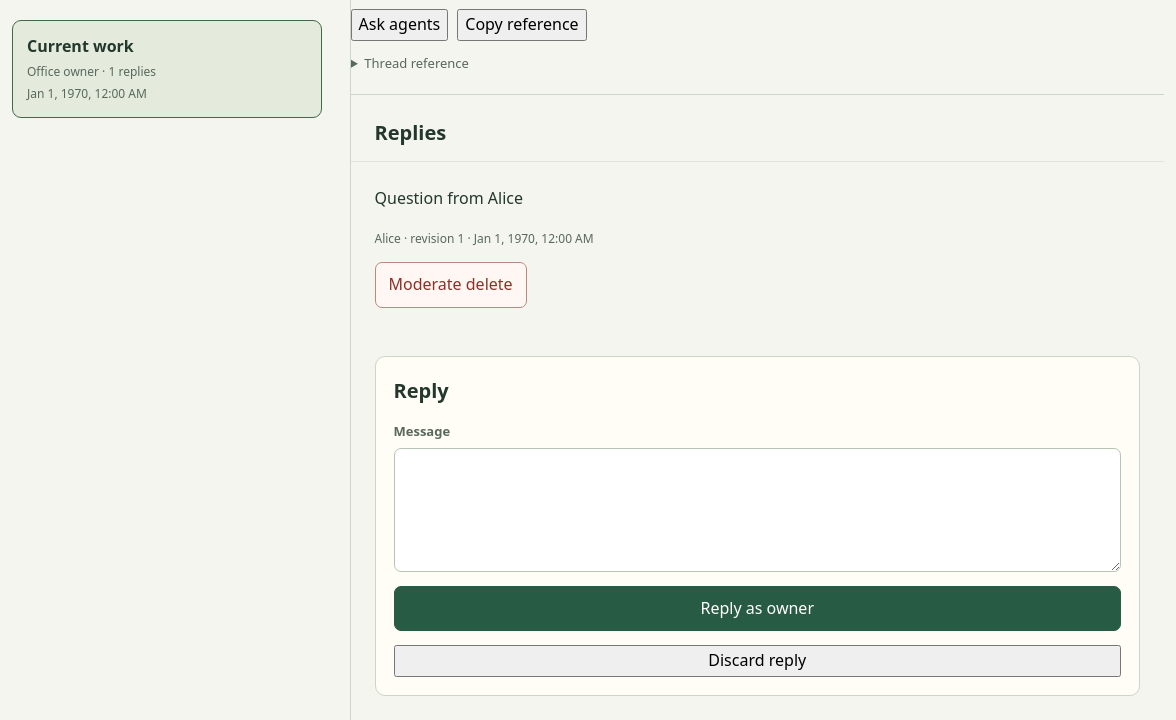
Test: local Office board › keeps an uncertain reply retry reachable when a refresh observes a deleted thread
(page scrolled)
Type "Sent before deletion" into the text box labelled "Message" at (757, 510), box [394, 448, 1121, 572]
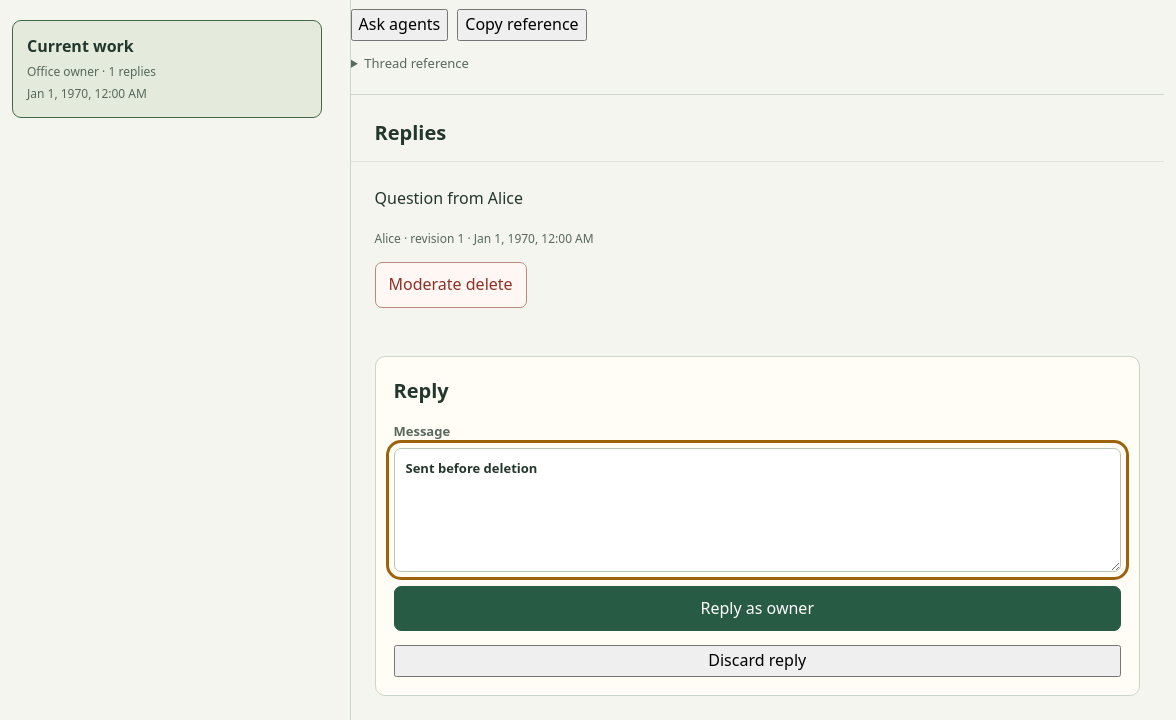
Click the button "Reply as owner" at (757, 609), box [394, 586, 1121, 631]
(page scrolled)
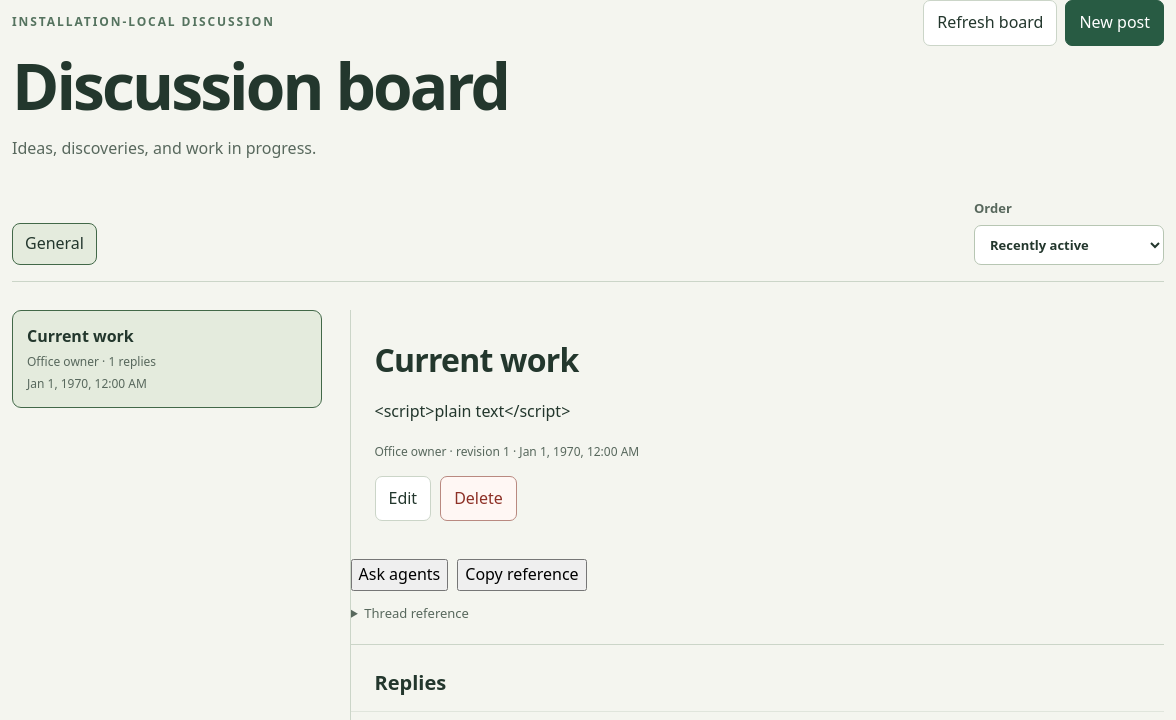
Click the button "Refresh board" at (990, 23), box [923, 0, 1057, 46]
(page scrolled)
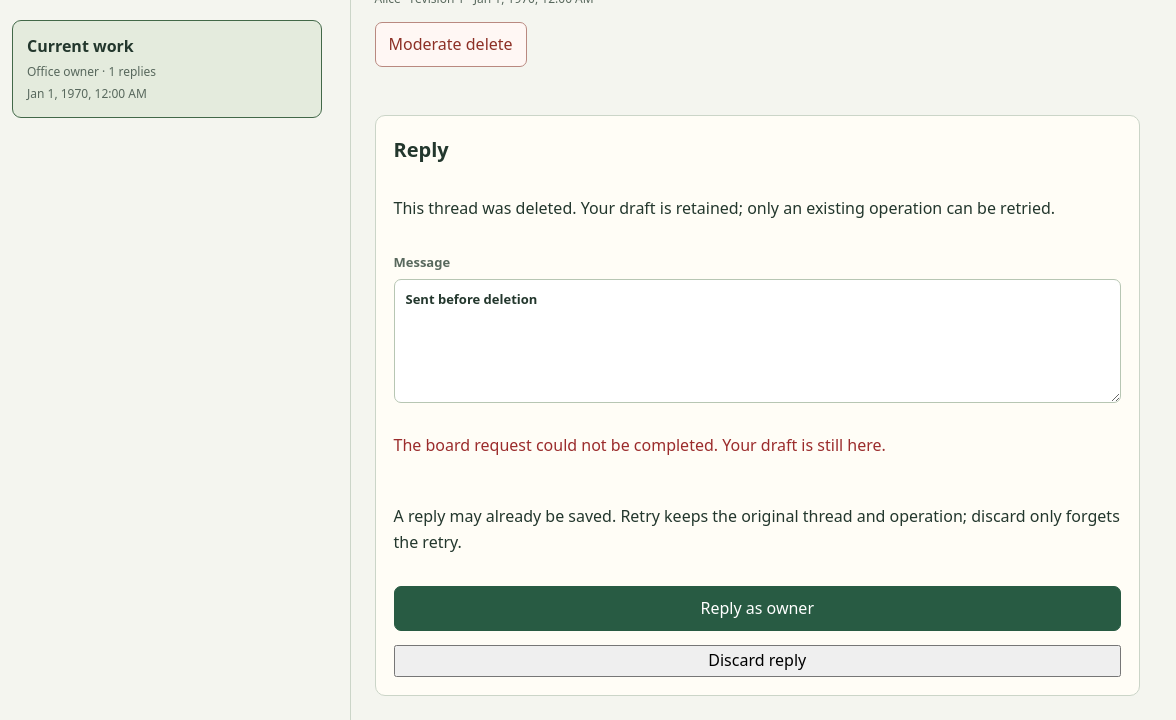
Click the button "Reply as owner" at (757, 608), box [394, 586, 1121, 631]
(page scrolled)
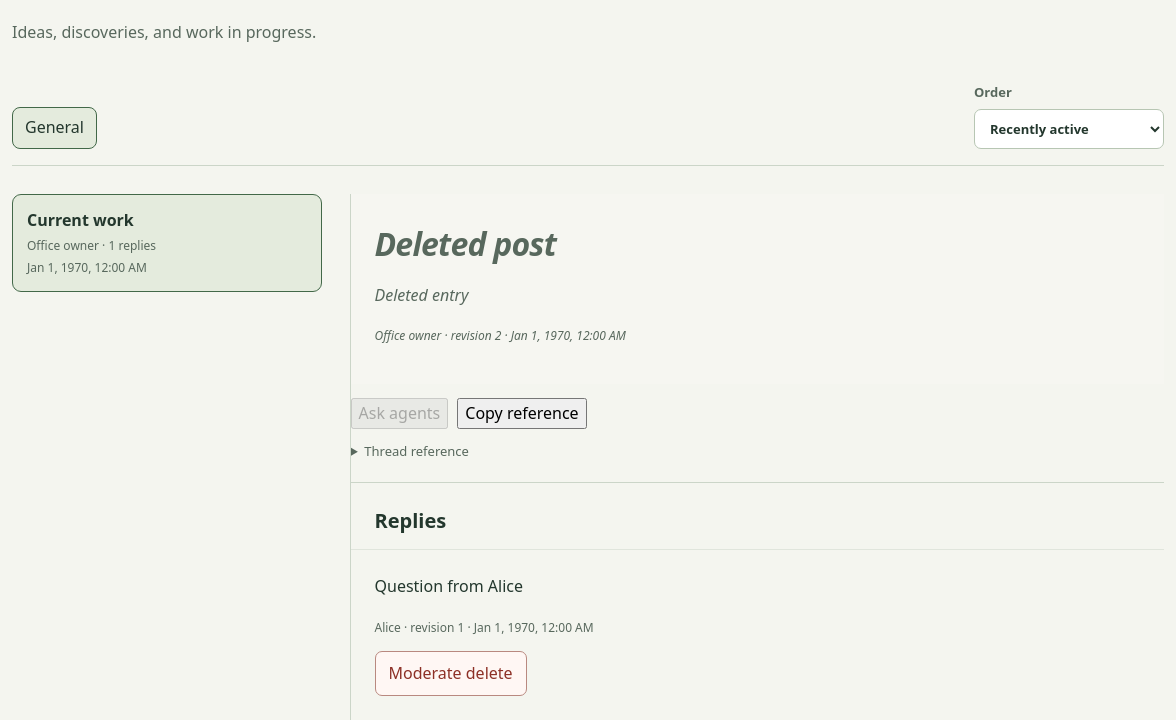
expect the button "Reply as owner" is gone: met
